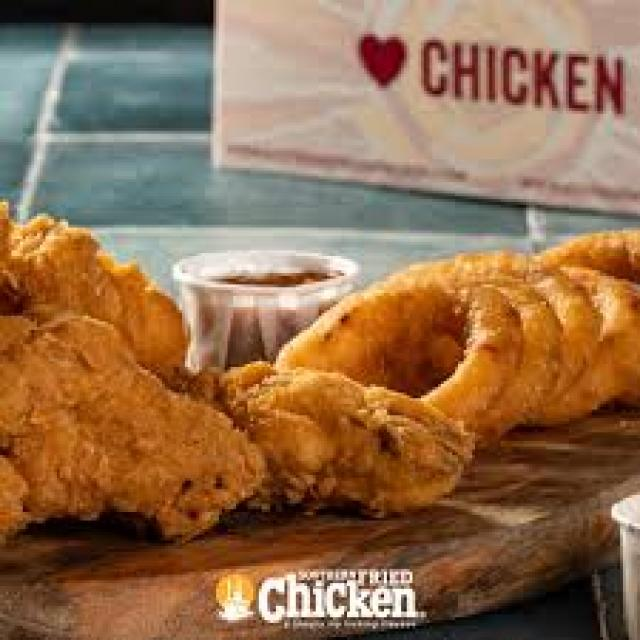Chicken Wings: (2, 178, 481, 546)
Onion Rings: (250, 225, 637, 435)
